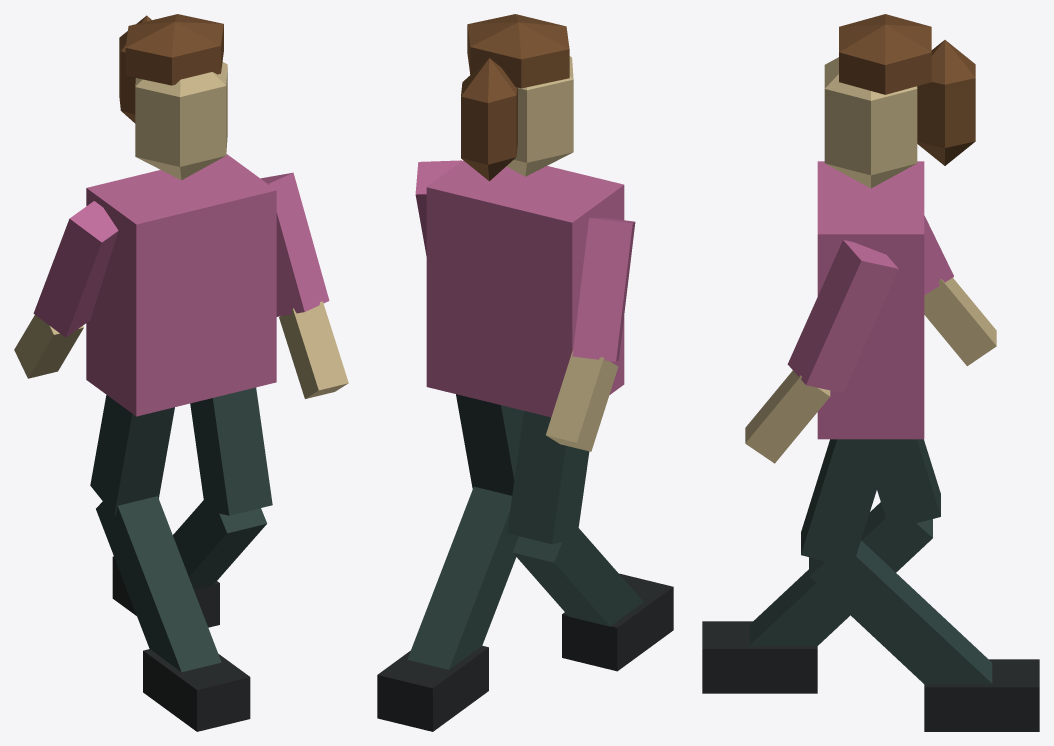
The model's file is TownVisitor1.obj.
3 views of the same model, side by side, from view 1: azimuth 30°, elevation 25°; view 2: azimuth 150°, elevation 25°; view 3: azimuth 270°, elevation 25° (orthographic). The views are drawn at different scales.
Parts seen in each view (by area): view 1: TownVisitor1; view 2: TownVisitor1; view 3: TownVisitor1.
Part boxes in pixels (bbox=[...]): TownVisitor1: bbox=[14, 14, 348, 731]; TownVisitor1: bbox=[377, 14, 673, 731]; TownVisitor1: bbox=[702, 14, 1039, 731].
Size of the model in its own units: 0.7047 by 1.81 by 0.82.
Materials: 1 (1 with a texture image).
